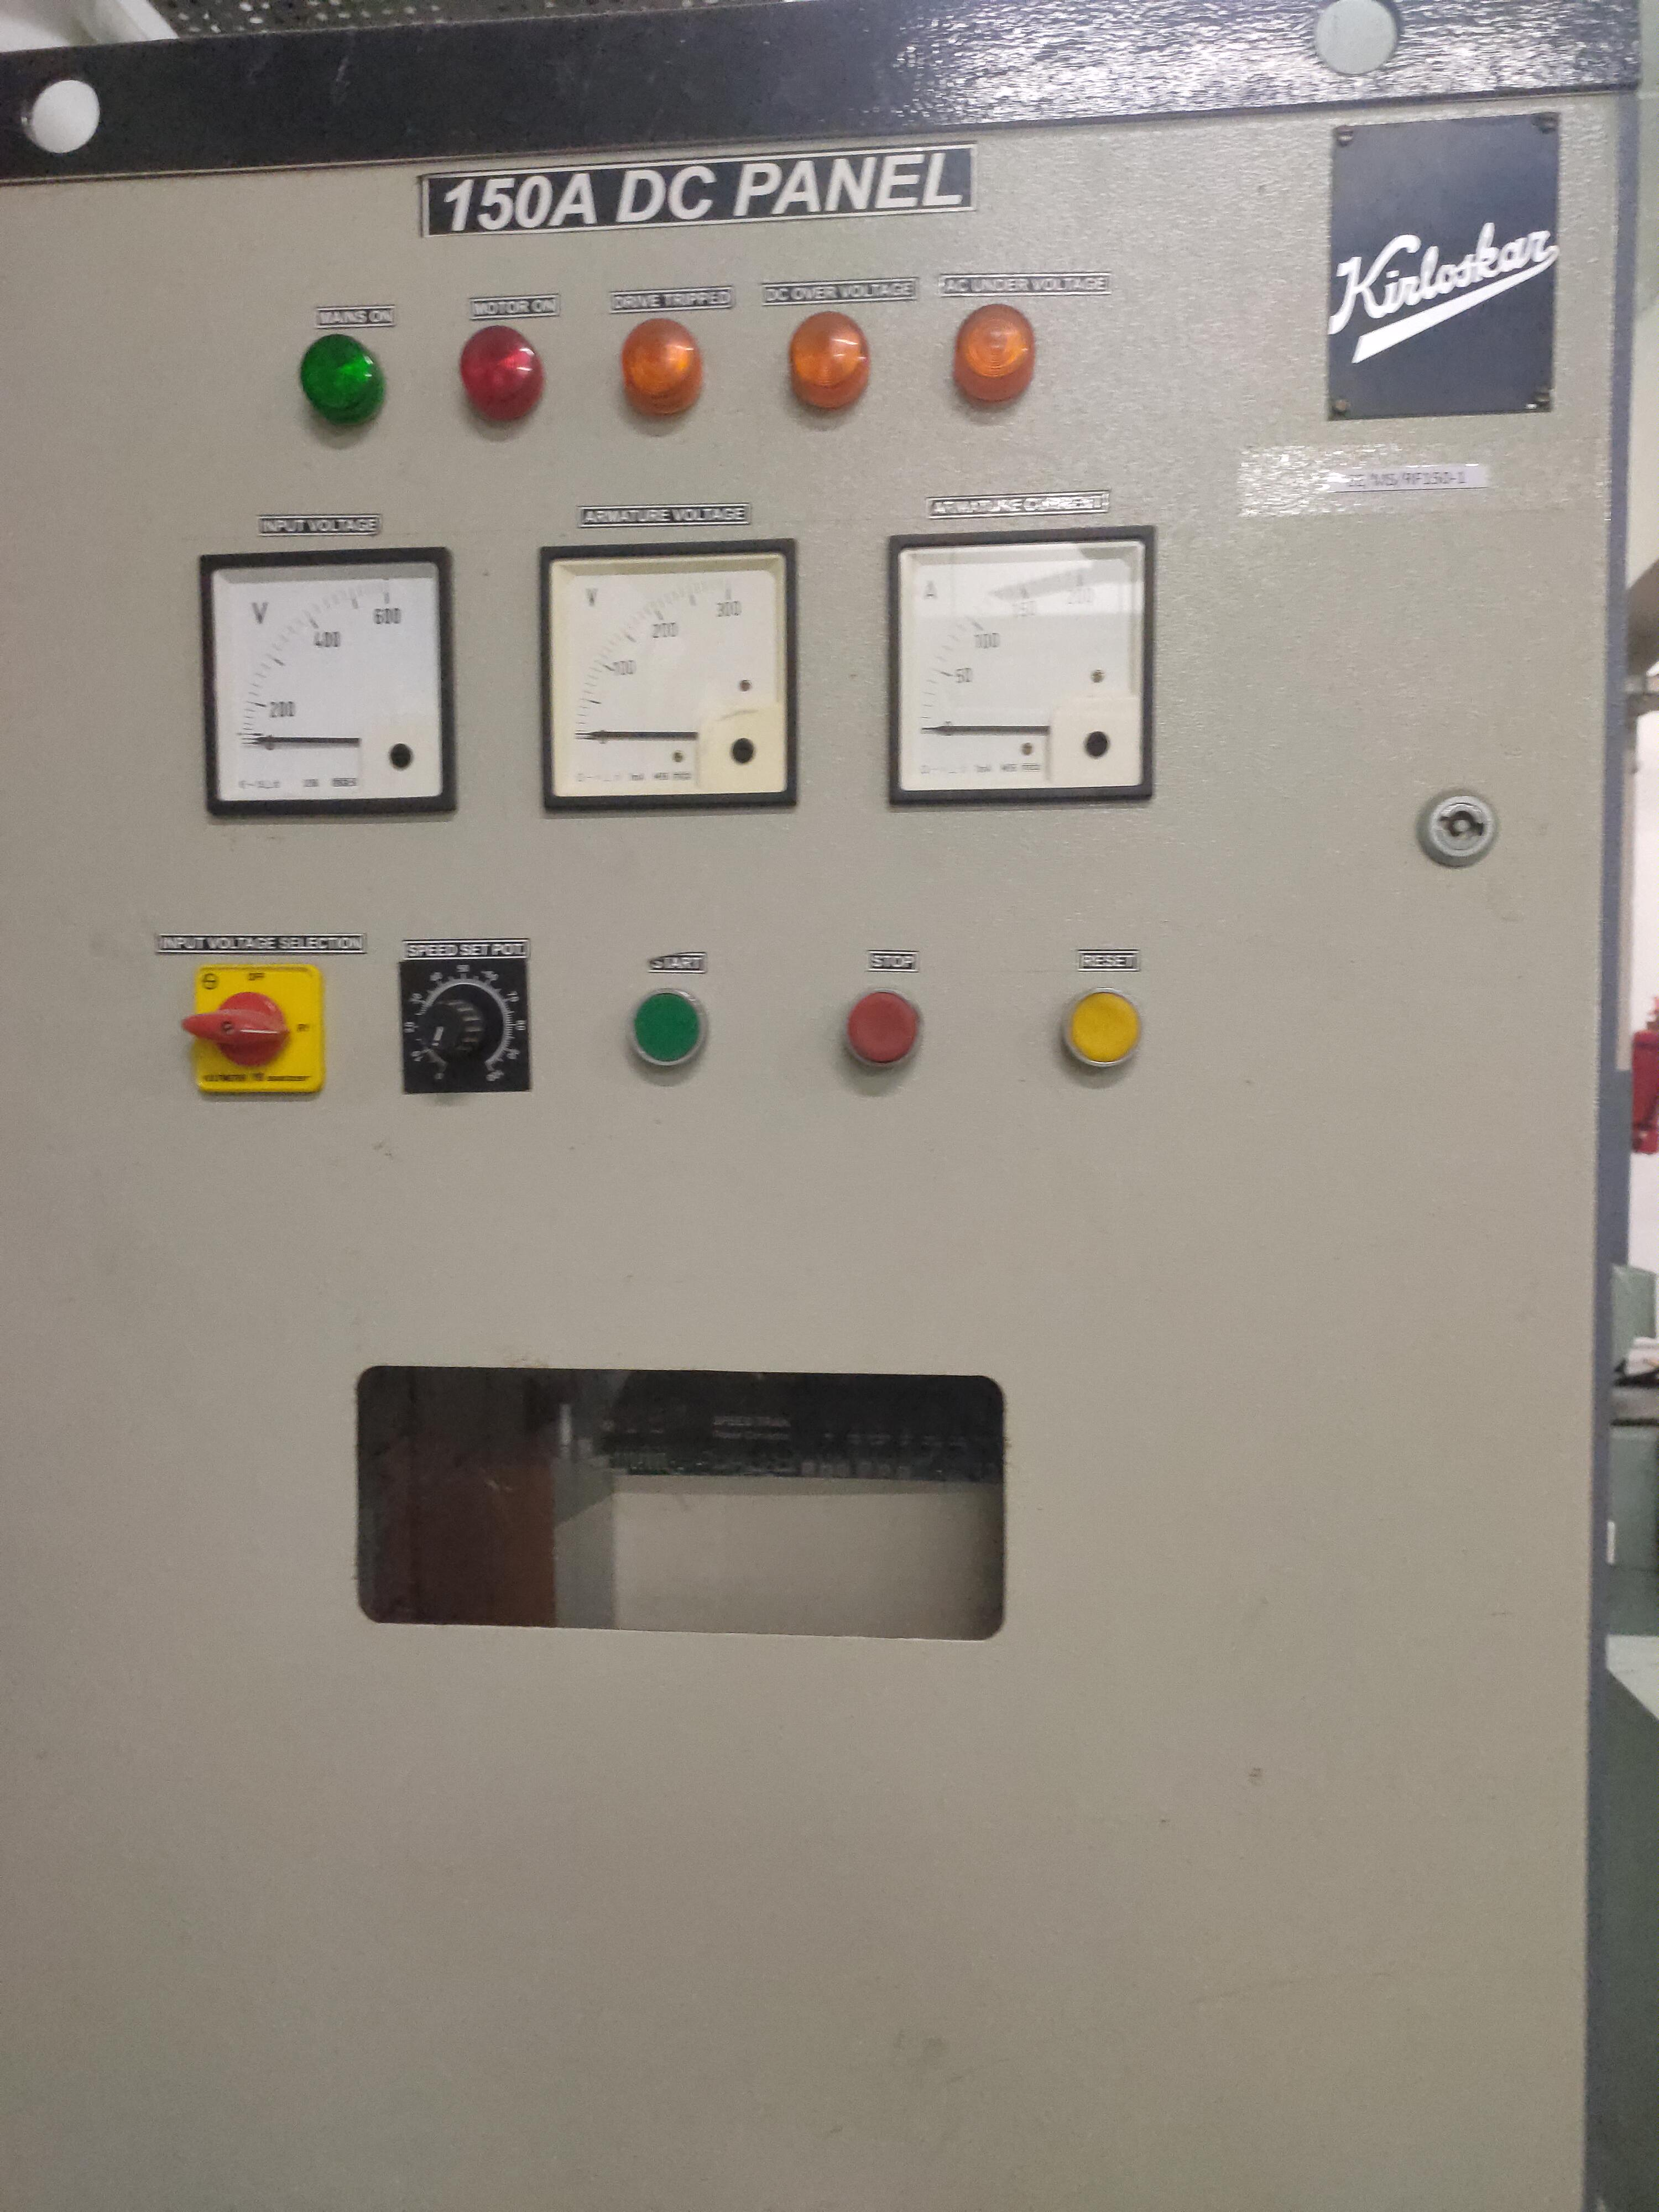Light Indications: (270, 260, 1094, 489)
